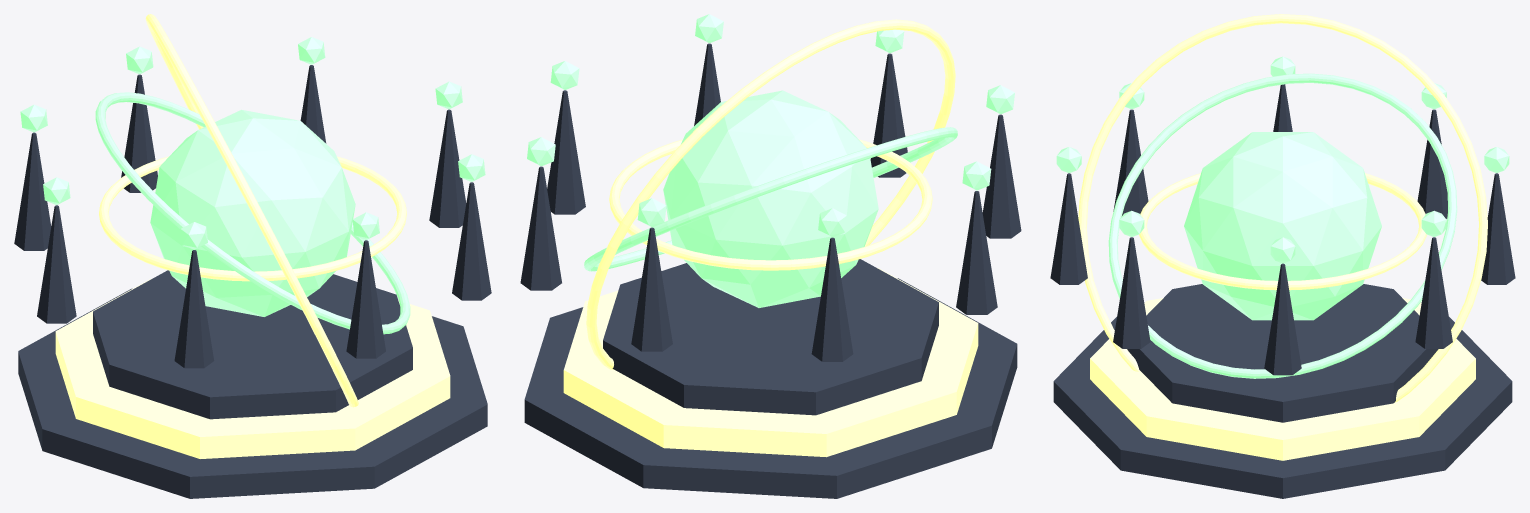
File: gpu-blender-v50.glb
3 views of the same model, side by side, from view 1: azimuth 30°, elevation 25°; view 2: azimuth 150°, elevation 25°; view 3: azimuth 270°, elevation 25° (orthographic). The views are drawn at different scales.
Parts seen in each view (by area): view 1: Cylinder.002, SovereignCore_mcp-lens, Cylinder, Cylinder.001, Torus.001, Torus.002, Torus, Cone.005, Cone.007, Cone.004, Cone.006, Cone (+11 smaller); view 2: Cylinder.002, SovereignCore_mcp-lens, Cylinder, Cylinder.001, Torus.002, Torus.001, Torus, Cone.001, Cone.003, Cone.002, Cone.004, Cone (+11 smaller); view 3: SovereignCore_mcp-lens, Cylinder.002, Cylinder, Cylinder.001, Torus.002, Torus.001, Torus, Cone, Cone.001, Cone.007, Cone.006, Cone.002 (+8 smaller).
Part boxes in pixels (bbox=[...]): Cylinder.002: bbox=[93, 270, 412, 419]; SovereignCore_mcp-lens: bbox=[150, 109, 355, 316]; Cylinder: bbox=[18, 288, 487, 498]; Cylinder.001: bbox=[55, 278, 450, 458]; Torus.001: bbox=[95, 92, 410, 334]; Torus.002: bbox=[145, 14, 358, 407]; Torus: bbox=[99, 156, 406, 281]; Cone.005: bbox=[174, 250, 214, 368]; Cone.007: bbox=[452, 182, 491, 300]; Cone.004: bbox=[37, 205, 76, 323]; Cone.006: bbox=[346, 240, 385, 358]; Cone: bbox=[429, 109, 466, 227]; Cylinder.002: bbox=[603, 259, 938, 415]; SovereignCore_mcp-lens: bbox=[663, 90, 878, 307]; Cylinder: bbox=[524, 278, 1017, 498]; Cylinder.001: bbox=[563, 268, 978, 457]; Torus.002: bbox=[586, 19, 955, 369]; Torus.001: bbox=[584, 127, 957, 271]; Torus: bbox=[609, 139, 932, 270]; Cone.001: bbox=[520, 166, 561, 290]; Cone.003: bbox=[811, 237, 853, 361]; Cone.002: bbox=[631, 227, 672, 351]; Cone.004: bbox=[956, 191, 997, 314]; Cone: bbox=[547, 90, 585, 214]; SovereignCore_mcp-lens: bbox=[1184, 132, 1381, 320]; Cylinder.002: bbox=[1127, 284, 1438, 422]; Cylinder: bbox=[1053, 317, 1512, 498]; Cylinder.001: bbox=[1090, 298, 1475, 460]; Torus.002: bbox=[1078, 14, 1487, 402]; Torus.001: bbox=[1108, 73, 1457, 378]; Torus: bbox=[1139, 173, 1426, 290]; Cone: bbox=[1264, 263, 1301, 375]; Cone.001: bbox=[1415, 237, 1452, 348]; Cone.007: bbox=[1113, 237, 1150, 348]; Cone.006: bbox=[1050, 173, 1087, 284]; Cone.002: bbox=[1481, 173, 1515, 284].
Size of the model in its own units: 4.41 by 3.72 by 4.46.
